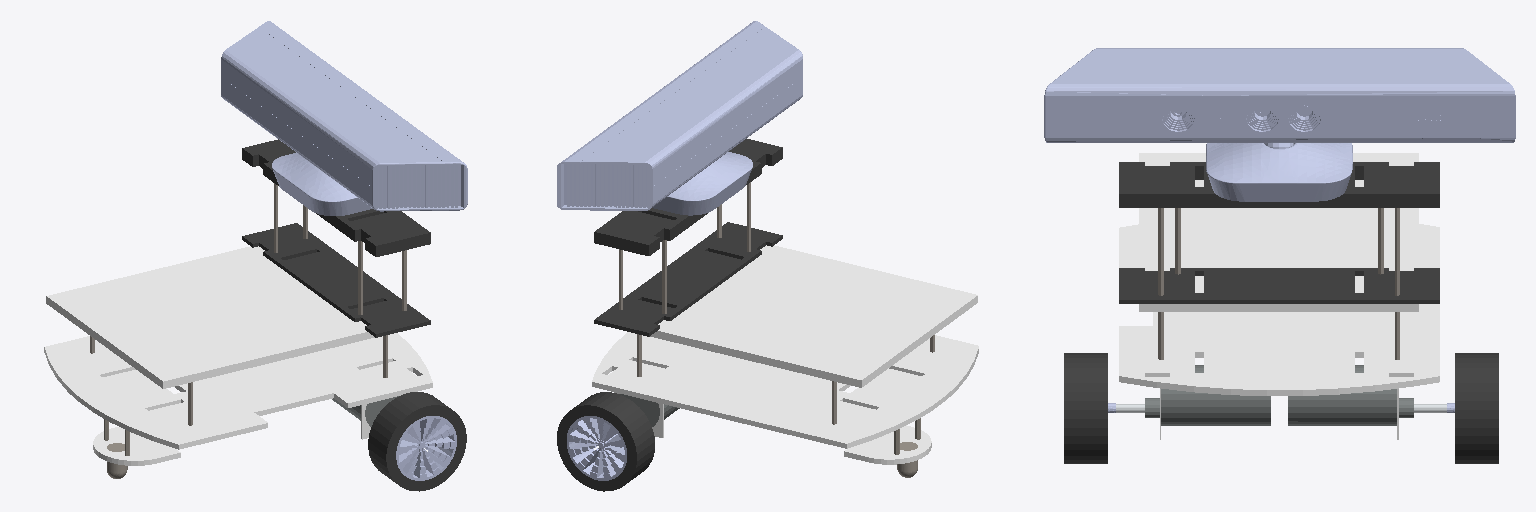
--- Facts derived from the render (not from the file) ---
The picture shows the robot from 3 angles, left to right: view 1: azimuth 30°, elevation 25°; view 2: azimuth 150°, elevation 25°; view 3: azimuth 270°, elevation 25°; orthographic projection.
Model robotr_description with 22 links and 21 joints (21 fixed), rooted at base_footprint, posed every joint at zero.
Links seen in each view (by area): view 1: kinect, upper_plate, base_link, black_plate_small, r_wheel, black_plate_big, r_rim, castor_base, 6cm_studs; view 2: kinect, upper_plate, base_link, black_plate_small, l_wheel, black_plate_big, l_rim, castor_base, 6cm_studs, l_motor; view 3: kinect, base_link, upper_plate, black_plate_small, black_plate_big, l_wheel, r_wheel, r_motor, l_motor, 6cm_studs, 4cm_studs.
Boxes of the visible links, x1,y1,x2,y2 form: kinect: [221, 21, 467, 215]; upper_plate: [46, 246, 374, 388]; base_link: [44, 333, 432, 449]; black_plate_small: [242, 223, 430, 337]; r_wheel: [368, 392, 466, 491]; black_plate_big: [242, 139, 430, 256]; r_rim: [396, 416, 456, 480]; castor_base: [93, 427, 180, 465]; 6cm_studs: [274, 183, 406, 314]; kinect: [557, 21, 802, 215]; upper_plate: [650, 245, 977, 387]; base_link: [592, 332, 978, 448]; black_plate_small: [594, 222, 782, 336]; l_wheel: [557, 392, 654, 491]; black_plate_big: [594, 139, 782, 255]; l_rim: [567, 416, 626, 480]; castor_base: [844, 425, 931, 464]; 6cm_studs: [619, 182, 750, 313]; l_motor: [620, 394, 679, 426]; kinect: [1044, 48, 1515, 201]; base_link: [1119, 224, 1439, 395]; upper_plate: [1139, 153, 1418, 311]; black_plate_small: [1119, 268, 1439, 303]; black_plate_big: [1119, 162, 1439, 207]; l_wheel: [1455, 353, 1498, 463]; r_wheel: [1064, 353, 1107, 463]; r_motor: [1145, 365, 1270, 425]; l_motor: [1288, 365, 1413, 425]; 6cm_studs: [1158, 208, 1399, 295]; 4cm_studs: [1158, 312, 1399, 359].
Size in the robot's own frame: 0.2497 by 0.2793 by 0.2555 metres.
20 mesh visuals loaded from 20 distinct referenced files (20 binary STL).

The robot description file, URDF, robot "robotr_description":
<?xml version="1.0" encoding="utf-8"?>
<!-- This URDF was automatically created by SolidWorks to URDF Exporter! Originally created by Stephen Brawner ([email redacted]) 
     Commit Version: 1.6.0-1-g15f4949  Build Version: 1.6.7594.29634
     For more information, please see http://wiki.ros.org/sw_urdf_exporter -->
<robot
  name="robotr_description">
  <link name="base_footprint"/>
  <link name="camera_link"/>
  <joint name="base_joint" type="fixed">
      <origin xyz="0 0 0.07" rpy="0 0 0" />
      <parent link="base_footprint"/>
      <child link="base_link" />
  </joint>
  <link
    name="base_link">
    <inertial>
      <origin
        xyz="-0.0803303511068174 0.00200000000059307 -0.00279990982630055"
        rpy="0 0 0" />
      <mass
        value="0.203717088165317" />
      <inertia
        ixx="0.000562842365919075"
        ixy="-1.06248777322587E-13"
        ixz="1.73218556106049E-07"
        iyy="0.00153671440021781"
        iyz="1.10182595670909E-16"
        izz="0.000974415279477664" />
    </inertial>
    <visual>
      <origin
        xyz="0 0 0"
        rpy="0 0 0" />
      <geometry>
        <mesh
          filename="package://navigator_bringup/meshes/base_link.STL" />
      </geometry>
      <material
        name="">
        <color
          rgba="1 1 1 0.3" />
      </material>
    </visual>
    <collision>
      <origin
        xyz="0 0 0"
        rpy="0 0 0" />
      <geometry>
        <mesh
          filename="package://navigator_bringup/meshes/base_link.STL" />
      </geometry>
    </collision>
  </link>
  <link
    name="castor_studs">
    <inertial>
      <origin
        xyz="1.23408929805474E-15 -0.0187500000000007 1.38777878078145E-16"
        rpy="0 0 0" />
      <mass
        value="0.00600155604822617" />
      <inertia
        ixx="7.0830864610836E-07"
        ixy="5.67936112148467E-23"
        ixz="6.68165186722167E-25"
        iyy="1.00025934137104E-08"
        iyz="4.89896175218932E-21"
        izz="7.0830864610836E-07" />
    </inertial>
    <visual>
      <origin
        xyz="0 0 0"
        rpy="0 0 0" />
      <geometry>
        <mesh
          filename="package://navigator_bringup/meshes/castor_studs.STL" />
      </geometry>
      <material
        name="">
        <color
          rgba="0.647058823529412 0.619607843137255 0.588235294117647 1" />
      </material>
    </visual>
    <collision>
      <origin
        xyz="0 0 0"
        rpy="0 0 0" />
      <geometry>
        <mesh
          filename="package://navigator_bringup/meshes/castor_studs.STL" />
      </geometry>
    </collision>
  </link>
  <joint
    name="castor_studs_joint"
    type="fixed">
    <origin
      xyz="-0.18 0 0"
      rpy="1.5707963267949 0 -1.5707963267949" />
    <parent
      link="base_link" />
    <child
      link="castor_studs" />
    <axis
      xyz="0 0 0" />
  </joint>
  <link
    name="castor_base">
    <inertial>
      <origin
        xyz="-1.29650489250412E-15 0.002 -0.0113743448101382"
        rpy="0 0 0" />
      <mass
        value="0.0116976101152847" />
      <inertia
        ixx="2.0855361321016E-06"
        ixy="-3.99680288865037E-24"
        ixz="2.03293134804627E-20"
        iyy="5.31282511365259E-06"
        iyz="1.68856393088669E-23"
        izz="3.25848260852509E-06" />
    </inertial>
    <visual>
      <origin
        xyz="0 0 0"
        rpy="0 0 0" />
      <geometry>
        <mesh
          filename="package://navigator_bringup/meshes/castor_base.STL" />
      </geometry>
      <material
        name="">
        <color
          rgba="1 1 1 0.3" />
      </material>
    </visual>
    <collision>
      <origin
        xyz="0 0 0"
        rpy="0 0 0" />
      <geometry>
        <mesh
          filename="package://navigator_bringup/meshes/castor_base.STL" />
      </geometry>
    </collision>
  </link>
  <joint
    name="castor_base_joint"
    type="fixed">
    <origin
      xyz="0 -0.0415 -0.025"
      rpy="3.14159265358979 0 3.14159265358979" />
    <parent
      link="castor_studs" />
    <child
      link="castor_base" />
    <axis
      xyz="0 0 0" />
  </joint>
  <link
    name="castor">
    <inertial>
      <origin
        xyz="2.77555756156289E-17 0.00567732558139535 -1.25711704189126E-15"
        rpy="3.1416 0 0" />
      <mass
        value="0.0292550998388507" />
      <inertia
        ixx="1.56333497253794E-06"
        ixy="-3.23316146394946E-23"
        ixz="2.76990885140595E-24"
        iyy="7.84529930271505E-07"
        iyz="-1.068884300382E-22"
        izz="1.56333497253794E-06" />
    </inertial>
    <visual>
      <origin
        xyz="0 0 0"
        rpy="0 0 0" />
      <geometry>
        <mesh
          filename="package://navigator_bringup/meshes/castor.STL" />
      </geometry>
      <material
        name="">
        <color
          rgba="0.647058823529412 0.619607843137255 0.588235294117647 1" />
      </material>
    </visual>
    <collision>
      <origin
        xyz="0 0 0"
        rpy="0 0 0" />
      <geometry>
        <mesh
          filename="package://navigator_bringup/meshes/castor.STL" />
      </geometry>
    </collision>
  </link>
  <joint
    name="castor_joint"
    type="fixed">
    <origin
      xyz="0 -0.0125 -0.025"
      rpy="0 1.5708 0" />
    <parent
      link="castor_base" />
    <child
      link="castor" />
    <axis
      xyz="0 0 0" />
  </joint>
  <link
    name="l_clamp">
    <inertial>
      <origin
        xyz="4.46439755636888E-16 0.00634190450325339 0.0108492512203278"
        rpy="0 0 0" />
      <mass
        value="0.0113161726562261" />
      <inertia
        ixx="2.68003208965716E-06"
        ixy="-9.23150646109792E-21"
        ixz="4.49571498549235E-21"
        iyy="4.10049166716253E-06"
        iyz="-5.71883700326575E-07"
        izz="2.45690436047926E-06" />
    </inertial>
    <visual>
      <origin
        xyz="0 0 0"
        rpy="0 0 0" />
      <geometry>
        <mesh
          filename="package://navigator_bringup/meshes/l_clamp.STL" />
      </geometry>
      <material
        name="">
        <color
          rgba="1 1 1 1" />
      </material>
    </visual>
    <collision>
      <origin
        xyz="0 0 0"
        rpy="0 0 0" />
      <geometry>
        <mesh
          filename="package://navigator_bringup/meshes/l_clamp.STL" />
      </geometry>
    </collision>
  </link>
  <joint
    name="l_clamp_joint"
    type="fixed">
    <origin
      xyz="0 0.071 -0.02"
      rpy="0 0 -3.1416" />
    <parent
      link="base_link" />
    <child
      link="l_clamp" />
    <axis
      xyz="0 0 0" />
  </joint>
  <link
    name="l_motor">
    <inertial>
      <origin
        xyz="1.49223508458574E-15 0.0331302521008403 0.000142857142857142"
        rpy="0 0 0" />
      <mass
        value="0.524884734191168" />
      <inertia
        ixx="0.000236474771933518"
        ixy="-3.18605575834741E-18"
        ixz="-5.79157981080169E-20"
        iyy="8.43876657673291E-05"
        iyz="-2.76462397510654E-06"
        izz="0.000235848123832493" />
    </inertial>
    <visual>
      <origin
        xyz="0 0 0"
        rpy="0 0 0" />
      <geometry>
        <mesh
          filename="package://navigator_bringup/meshes/l_motor.STL" />
      </geometry>
      <material
        name="">
        <color
          rgba="0.529411764705882 0.549019607843137 0.549019607843137 1" />
      </material>
    </visual>
    <collision>
      <origin
        xyz="0 0 0"
        rpy="0 0 0" />
      <geometry>
        <mesh
          filename="package://navigator_bringup/meshes/l_motor.STL" />
      </geometry>
    </collision>
  </link>
  <joint
    name="l_motor_joint"
    type="fixed">
    <origin
      xyz="0 0.066 0"
      rpy="3.14159265358979 0 0" />
    <parent
      link="l_clamp" />
    <child
      link="l_motor" />
    <axis
      xyz="0 0 0" />
  </joint>
  <link
    name="l_shaft">
    <inertial>
      <origin
        xyz="6.21571815861636E-16 0.011 3.46944695195361E-18"
        rpy="0 0 0" />
      <mass
        value="0.00117927534234127" />
      <inertia
        ixx="4.94067231968394E-08"
        ixy="-3.19271442540666E-22"
        ixz="-3.98019225194449E-39"
        iyy="3.68523544481647E-09"
        iyz="-4.23878906834201E-25"
        izz="4.94067231968394E-08" />
    </inertial>
    <visual>
      <origin
        xyz="0 0 0"
        rpy="0 0 0" />
      <geometry>
        <mesh
          filename="package://navigator_bringup/meshes/l_shaft.STL" />
      </geometry>
      <material
        name="">
        <color
          rgba="0.898039215686275 0.917647058823529 0.929411764705882 1" />
      </material>
    </visual>
    <collision>
      <origin
        xyz="0 0 0"
        rpy="0 0 0" />
      <geometry>
        <mesh
          filename="package://navigator_bringup/meshes/l_shaft.STL" />
      </geometry>
    </collision>
  </link>
  <joint
    name="l_shaft_joint"
    type="fixed">
    <origin
      xyz="0 0.075 0.00849999999999974"
      rpy="0 0 0" />
    <parent
      link="l_motor" />
    <child
      link="l_shaft" />
    <axis
      xyz="0 0 0" />
  </joint>
  <link
    name="l_rim">
    <inertial>
      <origin
        xyz="8.02221423384087E-16 0.0122162154619034 5.88345364891524E-06"
        rpy="0 0 0" />
      <mass
        value="0.0281408161945305" />
      <inertia
        ixx="6.48363892722368E-06"
        ixy="2.38924530570378E-20"
        ixz="1.12234318729371E-20"
        iyy="1.00188552236876E-05"
        iyz="-1.61985412368655E-09"
        izz="6.48372715588808E-06" />
    </inertial>
    <visual>
      <origin
        xyz="0 0 0"
        rpy="0 0 0" />
      <geometry>
        <mesh
          filename="package://navigator_bringup/meshes/l_rim.STL" />
      </geometry>
      <material
        name="">
        <color
          rgba="0.792156862745098 0.819607843137255 0.933333333333333 1" />
      </material>
    </visual>
    <collision>
      <origin
        xyz="0 0 0"
        rpy="0 0 0" />
      <geometry>
        <mesh
          filename="package://navigator_bringup/meshes/l_rim.STL" />
      </geometry>
    </collision>
  </link>
  <joint
    name="l_rim_joint"
    type="fixed">
    <origin
      xyz="0 0.0242514397792677 0"
      rpy="0 0 0" />
    <parent
      link="l_shaft" />
    <child
      link="l_rim" />
    <axis
      xyz="0 0 0" />
  </joint>
  <link
    name="l_wheel">
    <inertial>
      <origin
        xyz="8.18762427883605E-16 0.013 1.6306400674182E-16"
        rpy="0 0 0" />
      <mass
        value="0.0439338814375541" />
      <inertia
        ixx="2.13006101836408E-05"
        ixy="1.14176510865926E-19"
        ixz="1.58691157838805E-33"
        iyy="3.76513363919839E-05"
        iyz="2.26252082477143E-19"
        izz="2.13006101836408E-05" />
    </inertial>
    <visual>
      <origin
        xyz="0 0 0"
        rpy="0 0 0" />
      <geometry>
        <mesh
          filename="package://navigator_bringup/meshes/l_wheel.STL" />
      </geometry>
      <material
        name="">
        <color
          rgba="0.298039215686275 0.298039215686275 0.298039215686275 1" />
      </material>
    </visual>
    <collision>
      <origin
        xyz="0 0 0"
        rpy="0 0 0" />
      <geometry>
        <mesh
          filename="package://navigator_bringup/meshes/l_wheel.STL" />
      </geometry>
    </collision>
  </link>
  <joint
    name="l_wheel_joint"
    type="fixed">
    <origin
      xyz="0 0 0"
      rpy="0 0 0" />
    <parent
      link="l_rim" />
    <child
      link="l_wheel" />
    <axis
      xyz="0 0 0" />
  </joint>
  <link
    name="r_clamp">
    <inertial>
      <origin
        xyz="7.73858964492141E-16 0.00634190450325341 0.0108492512203277"
        rpy="0 0 0" />
      <mass
        value="0.011316172656226" />
      <inertia
        ixx="2.68003208965717E-06"
        ixy="5.75150324310157E-22"
        ixz="-4.67965262388268E-21"
        iyy="4.10049166716254E-06"
        iyz="-5.71883700326575E-07"
        izz="2.45690436047926E-06" />
    </inertial>
    <visual>
      <origin
        xyz="0 0 0"
        rpy="0 0 0" />
      <geometry>
        <mesh
          filename="package://navigator_bringup/meshes/r_clamp.STL" />
      </geometry>
      <material
        name="">
        <color
          rgba="1 1 1 1" />
      </material>
    </visual>
    <collision>
      <origin
        xyz="0 0 0"
        rpy="0 0 0" />
      <geometry>
        <mesh
          filename="package://navigator_bringup/meshes/r_clamp.STL" />
      </geometry>
    </collision>
  </link>
  <joint
    name="r_clamp_joint"
    type="fixed">
    <origin
      xyz="0 -0.071 -0.02"
      rpy="0 0 0" />
    <parent
      link="base_link" />
    <child
      link="r_clamp" />
    <axis
      xyz="0 0 0" />
  </joint>
  <link
    name="r_motor">
    <inertial>
      <origin
        xyz="0.0099999999999995 0.0431302521008403 0.000142857142857177"
        rpy="0 0 0" />
      <mass
        value="0.524884734191169" />
      <inertia
        ixx="0.000236474771933518"
        ixy="-1.0427133200798E-18"
        ixz="-1.49294057345111E-20"
        iyy="8.43876657673291E-05"
        iyz="-2.76462397510655E-06"
        izz="0.000235848123832493" />
    </inertial>
    <visual>
      <origin
        xyz="0 0 0"
        rpy="0 0 0" />
      <geometry>
        <mesh
          filename="package://navigator_bringup/meshes/r_motor.STL" />
      </geometry>
      <material
        name="">
        <color
          rgba="0.529411764705882 0.549019607843137 0.549019607843137 1" />
      </material>
    </visual>
    <collision>
      <origin
        xyz="0 0 0"
        rpy="0 0 0" />
      <geometry>
        <mesh
          filename="package://navigator_bringup/meshes/r_motor.STL" />
      </geometry>
    </collision>
  </link>
  <joint
    name="r_motor_joint"
    type="fixed">
    <origin
      xyz="-0.01 0.076 0"
      rpy="3.14159265358979 0 0" />
    <parent
      link="r_clamp" />
    <child
      link="r_motor" />
    <axis
      xyz="0 0 0" />
  </joint>
  <link
    name="r_shaft">
    <inertial>
      <origin
        xyz="-6.3544960366945E-16 0.011 0"
        rpy="0 0 0" />
      <mass
        value="0.00117927534234127" />
      <inertia
        ixx="4.94067231968394E-08"
        ixy="3.19271442540666E-22"
        ixz="-6.89811526679502E-39"
        iyy="3.68523544481647E-09"
        iyz="4.23878906834262E-25"
        izz="4.94067231968394E-08" />
    </inertial>
    <visual>
      <origin
        xyz="0 0 0"
        rpy="0 0 0" />
      <geometry>
        <mesh
          filename="package://navigator_bringup/meshes/r_shaft.STL" />
      </geometry>
      <material
        name="">
        <color
          rgba="0.898039215686275 0.917647058823529 0.929411764705882 1" />
      </material>
    </visual>
    <collision>
      <origin
        xyz="0 0 0"
        rpy="0 0 0" />
      <geometry>
        <mesh
          filename="package://navigator_bringup/meshes/r_shaft.STL" />
      </geometry>
    </collision>
  </link>
  <joint
    name="r_shaft_joint"
    type="fixed">
    <origin
      xyz="0.01 0.085 0.00850000000000029"
      rpy="3.14159265358979 0 -3.14159265358979" />
    <parent
      link="r_motor" />
    <child
      link="r_shaft" />
    <axis
      xyz="0 0 0" />
  </joint>
  <link
    name="r_rim">
    <inertial>
      <origin
        xyz="-7.91701425760462E-16 0.0122162154619034 5.88345364891177E-06"
        rpy="0 0 0" />
      <mass
        value="0.0281408161945305" />
      <inertia
        ixx="6.48363892722369E-06"
        ixy="-2.51094305737917E-20"
        ixz="1.08820439564639E-20"
        iyy="1.00188552236876E-05"
        iyz="-1.61985412368637E-09"
        izz="6.48372715588809E-06" />
    </inertial>
    <visual>
      <origin
        xyz="0 0 0"
        rpy="0 0 0" />
      <geometry>
        <mesh
          filename="package://navigator_bringup/meshes/r_rim.STL" />
      </geometry>
      <material
        name="">
        <color
          rgba="0.792156862745098 0.819607843137255 0.933333333333333 1" />
      </material>
    </visual>
    <collision>
      <origin
        xyz="0 0 0"
        rpy="0 0 0" />
      <geometry>
        <mesh
          filename="package://navigator_bringup/meshes/r_rim.STL" />
      </geometry>
    </collision>
  </link>
  <joint
    name="r_rim_joint"
    type="fixed">
    <origin
      xyz="0 0.0218095636751039 0"
      rpy="0 0 0" />
    <parent
      link="r_shaft" />
    <child
      link="r_rim" />
    <axis
      xyz="0 0 0" />
  </joint>
  <link
    name="r_wheel">
    <inertial>
      <origin
        xyz="-8.01710898184696E-16 0.013 1.76941794549634E-16"
        rpy="0 0 0" />
      <mass
        value="0.0439338814375541" />
      <inertia
        ixx="2.13006101836408E-05"
        ixy="-1.14176510865926E-19"
        ixz="-1.60133259501566E-33"
        iyy="3.76513363919839E-05"
        iyz="2.28336282505836E-19"
        izz="2.13006101836408E-05" />
    </inertial>
    <visual>
      <origin
        xyz="0 0 0"
        rpy="0 0 0" />
      <geometry>
        <mesh
          filename="package://navigator_bringup/meshes/r_wheel.STL" />
      </geometry>
      <material
        name="">
        <color
          rgba="0.298039215686275 0.298039215686275 0.298039215686275 1" />
      </material>
    </visual>
    <collision>
      <origin
        xyz="0 0 0"
        rpy="0 0 0" />
      <geometry>
        <mesh
          filename="package://navigator_bringup/meshes/r_wheel.STL" />
      </geometry>
    </collision>
  </link>
  <joint
    name="r_wheel_joint"
    type="fixed">
    <origin
      xyz="0 0 0"
      rpy="0 0 0" />
    <parent
      link="r_rim" />
    <child
      link="r_wheel" />
    <axis
      xyz="0 0 0" />
  </joint>
  <link
    name="4cm_studs">
    <inertial>
      <origin
        xyz="1.38777878078145E-17 0.02 -4.73883287399247E-16"
        rpy="0 0 0" />
      <mass
        value="0.0128033195695494" />
      <inertia
        ixx="1.71777870891455E-06"
        ixy="-8.61135230571164E-23"
        ixz="-1.48831518156455E-23"
        iyy="2.13388659492473E-08"
        iyz="-2.11474623538136E-22"
        izz="1.71777870891454E-06" />
    </inertial>
    <visual>
      <origin
        xyz="0 0 0"
        rpy="0 0 0" />
      <geometry>
        <mesh
          filename="package://navigator_bringup/meshes/4cm_studs.STL" />
      </geometry>
      <material
        name="">
        <color
          rgba="0.647058823529412 0.619607843137255 0.588235294117647 1" />
      </material>
    </visual>
    <collision>
      <origin
        xyz="0 0 0"
        rpy="0 0 0" />
      <geometry>
        <mesh
          filename="package://navigator_bringup/meshes/4cm_studs.STL" />
      </geometry>
    </collision>
  </link>
  <joint
    name="4cm_studs_joint"
    type="fixed">
    <origin
      xyz="-0.08 0 0.004"
      rpy="1.5707963267949 0 3.14159265358979" />
    <parent
      link="base_link" />
    <child
      link="4cm_studs" />
    <axis
      xyz="0 0 0" />
  </joint>
  <link
    name="upper_plate">
    <inertial>
      <origin
        xyz="0.00500000000000005 0.003 -5.69419057527234E-16"
        rpy="0 0 0" />
      <mass
        value="0.0711144" />
      <inertia
        ixx="0.0001635157104"
        ixy="-8.81875358350719E-22"
        ixz="6.63833932641862E-19"
        iyy="0.0004246477872"
        iyz="1.95852727215511E-20"
        izz="0.0002615587632" />
    </inertial>
    <visual>
      <origin
        xyz="0 0 0"
        rpy="0 0 0" />
      <geometry>
        <mesh
          filename="package://navigator_bringup/meshes/upper_plate.STL" />
      </geometry>
      <material
        name="">
        <color
          rgba="1 1 1 1" />
      </material>
    </visual>
    <collision>
      <origin
        xyz="0 0 0"
        rpy="0 0 0" />
      <geometry>
        <mesh
          filename="package://navigator_bringup/meshes/upper_plate.STL" />
      </geometry>
    </collision>
  </link>
  <joint
    name="upper_plate_joint"
    type="fixed">
    <origin
      xyz="0 0.04 0"
      rpy="0 0 0" />
    <parent
      link="4cm_studs" />
    <child
      link="upper_plate" />
    <axis
      xyz="0 0 0" />
  </joint>
  <link
    name="black_plate_small">
    <inertial>
      <origin
        xyz="0.000462962962962967 0.00150000000000001 7.05793464637922E-17"
        rpy="0 0 0" />
      <mass
        value="0.031833" />
      <inertia
        ixx="9.53361997500001E-05"
        ixy="-3.00024246406317E-23"
        ixz="4.0679143692461E-21"
        iyy="0.000100642933333333"
        iyz="-1.88257499140994E-21"
        izz="5.35448308333334E-06" />
    </inertial>
    <visual>
      <origin
        xyz="0 0 0"
        rpy="0 0 0" />
      <geometry>
        <mesh
          filename="package://navigator_bringup/meshes/black_plate_small.STL" />
      </geometry>
      <material
        name="">
        <color
          rgba="0.298039215686275 0.298039215686275 0.298039215686275 1" />
      </material>
    </visual>
    <collision>
      <origin
        xyz="0 0 0"
        rpy="0 0 0" />
      <geometry>
        <mesh
          filename="package://navigator_bringup/meshes/black_plate_small.STL" />
      </geometry>
    </collision>
  </link>
  <joint
    name="black_plate_small_joint"
    type="fixed">
    <origin
      xyz="-0.08 0.006 0"
      rpy="3.14159265358979 0 3.14159265358979" />
    <parent
      link="upper_plate" />
    <child
      link="black_plate_small" />
    <axis
      xyz="0 0 0" />
  </joint>
  <link
    name="6cm_studs">
    <inertial>
      <origin
        xyz="0.0799999999999998 0.029 5.66140327106846E-16"
        rpy="0 0 0" />
      <mass
        value="0.0192049793543236" />
      <inertia
        ixx="5.77749795575901E-06"
        ixy="1.14874970004442E-23"
        ixz="2.7818083955487E-25"
        iyy="3.20082989238674E-08"
        iyz="-7.03943736991413E-24"
        izz="5.77749795575901E-06" />
    </inertial>
    <visual>
      <origin
        xyz="0 0 0"
        rpy="0 0 0" />
      <geometry>
        <mesh
          filename="package://navigator_bringup/meshes/6cm_studs.STL" />
      </geometry>
      <material
        name="">
        <color
          rgba="0.647058823529412 0.619607843137255 0.588235294117647 1" />
      </material>
    </visual>
    <collision>
      <origin
        xyz="0 0 0"
        rpy="0 0 0" />
      <geometry>
        <mesh
          filename="package://navigator_bringup/meshes/6cm_studs.STL" />
      </geometry>
    </collision>
  </link>
  <joint
    name="6cm_studs_joint"
    type="fixed">
    <origin
      xyz="-0.08 0.004 0"
      rpy="0 0 0" />
    <parent
      link="black_plate_small" />
    <child
      link="6cm_studs" />
    <axis
      xyz="0 0 0" />
  </joint>
  <link
    name="black_plate_big">
    <inertial>
      <origin
        xyz="0.000462962962962966 0.00449999999999999 5.57661188960559E-17"
        rpy="0 0 0" />
      <mass
        value="0.0954989999999999" />
      <inertia
        ixx="0.00028658159325"
        ixy="-5.13810130659092E-23"
        ixz="1.86370302225981E-21"
        iyy="0.0003019288"
        iyz="-3.30990938509318E-22"
        izz="1.663644325E-05" />
    </inertial>
    <visual>
      <origin
        xyz="0 0 0"
        rpy="0 0 0" />
      <geometry>
        <mesh
          filename="package://navigator_bringup/meshes/black_plate_big.STL" />
      </geometry>
      <material
        name="">
        <color
          rgba="0.298039215686275 0.298039215686275 0.298039215686275 1" />
      </material>
    </visual>
    <collision>
      <origin
        xyz="0 0 0"
        rpy="0 0 0" />
      <geometry>
        <mesh
          filename="package://navigator_bringup/meshes/black_plate_big.STL" />
      </geometry>
    </collision>
  </link>
  <joint
    name="black_plate_big_joint"
    type="fixed">
    <origin
      xyz="0.08 0.059 0"
      rpy="0 0 0" />
    <parent
      link="6cm_studs" />
    <child
      link="black_plate_big" />
    <axis
      xyz="0 0 0" />
  </joint>
  <link
    name="kinect">
    <inertial>
      <origin
        xyz="0.00122183168080987 0.0321387211137403 0.000160728341865204"
        rpy="0 0 0" />
      <mass
        value="0.645269768162058" />
      <inertia
        ixx="0.00284310577525538"
        ixy="-1.54624658814483E-07"
        ixz="2.56831959224755E-06"
        iyy="0.00296397070653704"
        iyz="-1.09854801503413E-08"
        izz="0.000263778628039503" />
    </inertial>
    <visual>
      <origin
        xyz="0 0 0"
        rpy="0 0 0" />
      <geometry>
        <mesh
          filename="package://navigator_bringup/meshes/kinect.STL" />
      </geometry>
      <material
        name="">
        <color
          rgba="0.792156862745098 0.819607843137255 0.933333333333333 1" />
      </material>
    </visual>
    <collision>
      <origin
        xyz="0 0 0"
        rpy="0 0 0" />
      <geometry>
        <mesh
          filename="package://navigator_bringup/meshes/kinect.STL" />
      </geometry>
    </collision>
  </link>
  <joint
    name="kinect_base"
    type="fixed">
    <origin
      xyz="0 0.023 0"
      rpy="3.14159265358979 0 3.14159265358979" />
    <parent
      link="black_plate_big" />
    <child
      link="kinect" />
    <axis
      xyz="0 0 0" />
  </joint>
  <joint name="kinect_camera_joint" type="fixed">
      <origin xyz="0 0.023 0" rpy="0 0 0" />
      <parent link="kinect"/>
      <child link="camera_link" />
  </joint>
</robot>
